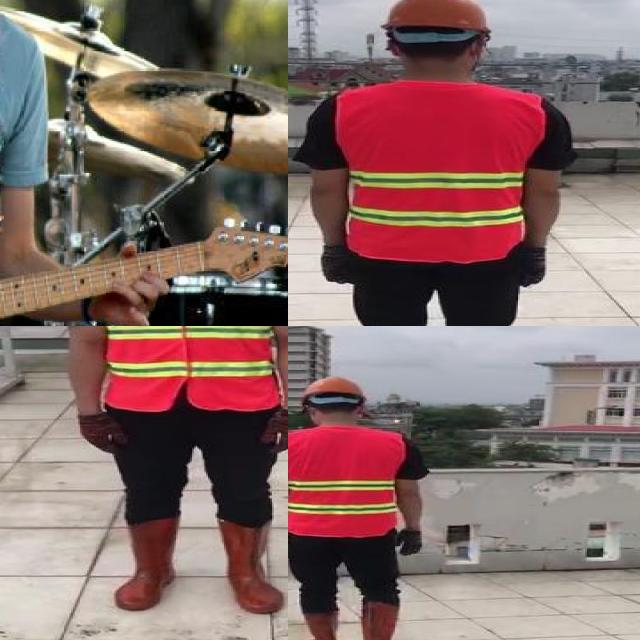boots: (215, 517, 285, 613), (112, 519, 181, 610), (358, 600, 404, 640), (297, 610, 343, 640)
hand_glove: (76, 413, 128, 455), (319, 246, 353, 283), (261, 411, 288, 452), (524, 247, 546, 287), (395, 531, 425, 558)
hand_noglove: (99, 247, 176, 326)
head_helmet: (376, 0, 504, 39), (300, 375, 366, 400)
person: (295, 0, 580, 326), (49, 326, 288, 614), (0, 0, 136, 326), (288, 371, 434, 640)
vest: (333, 83, 543, 263), (96, 326, 281, 411), (288, 427, 406, 540)
